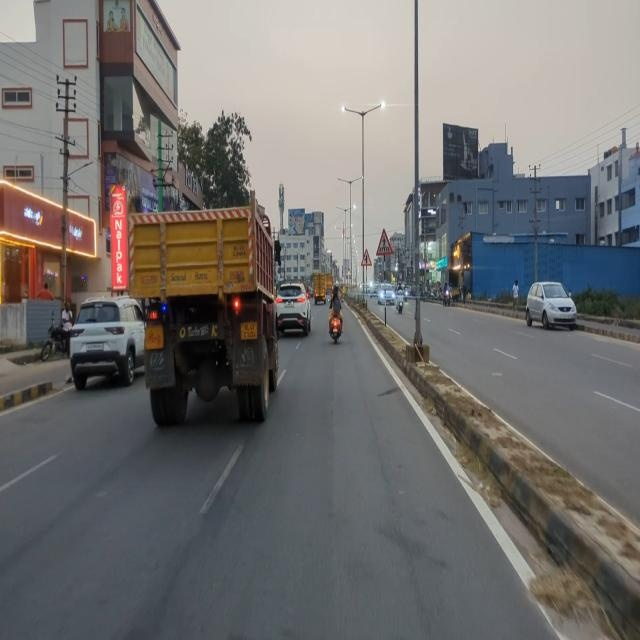bien_nguy_hiem: (376, 224, 394, 258), (360, 244, 373, 270)
